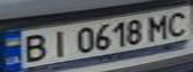0: (72, 25, 96, 54)
1: (109, 19, 130, 47)
6: (93, 21, 115, 51)
8: (124, 16, 148, 45)
B: (15, 31, 51, 64)
C: (163, 8, 193, 37)
I: (45, 28, 72, 58)
M: (145, 11, 175, 40)
